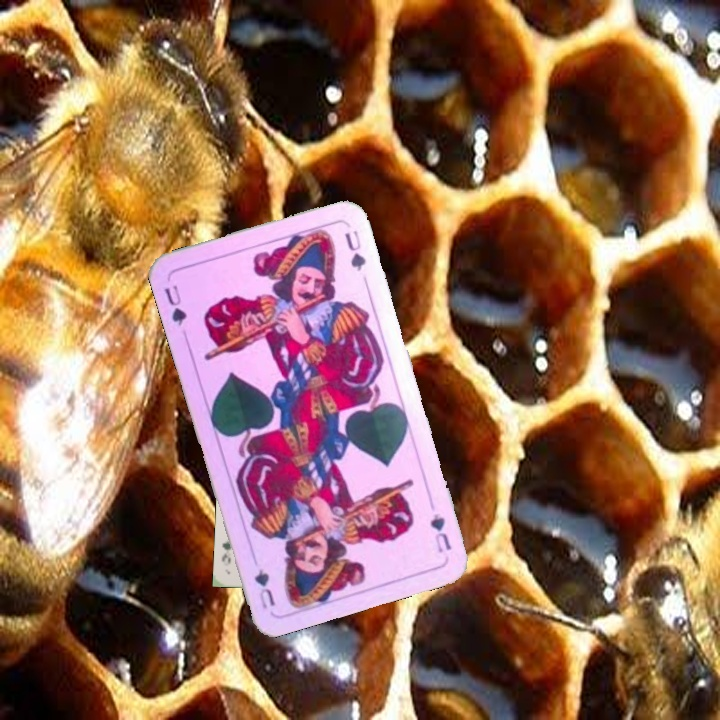GU: (160, 281, 190, 329), (426, 509, 455, 556)
